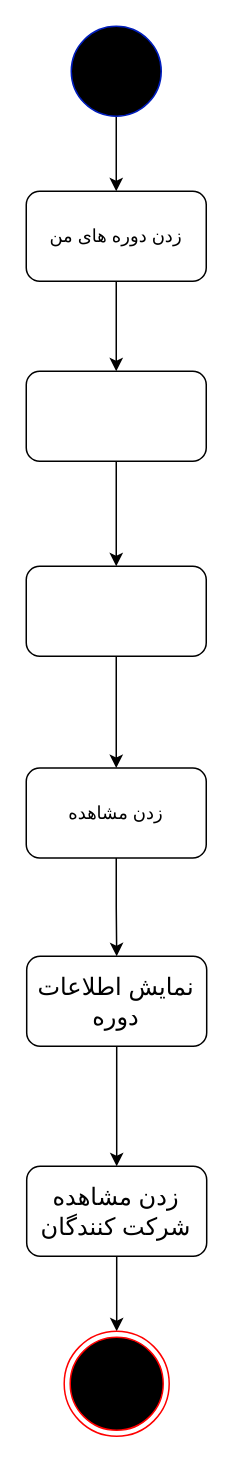
Image size: 234x1463. Some labels were removed from this diagram. The box of each missing label's shape, as (x1, y1, x2, y2) in pixels:
اانتخاب دوره مورد نظر: (25, 565, 206, 656)
نمایش لیست دوره ها: (25, 370, 206, 461)
